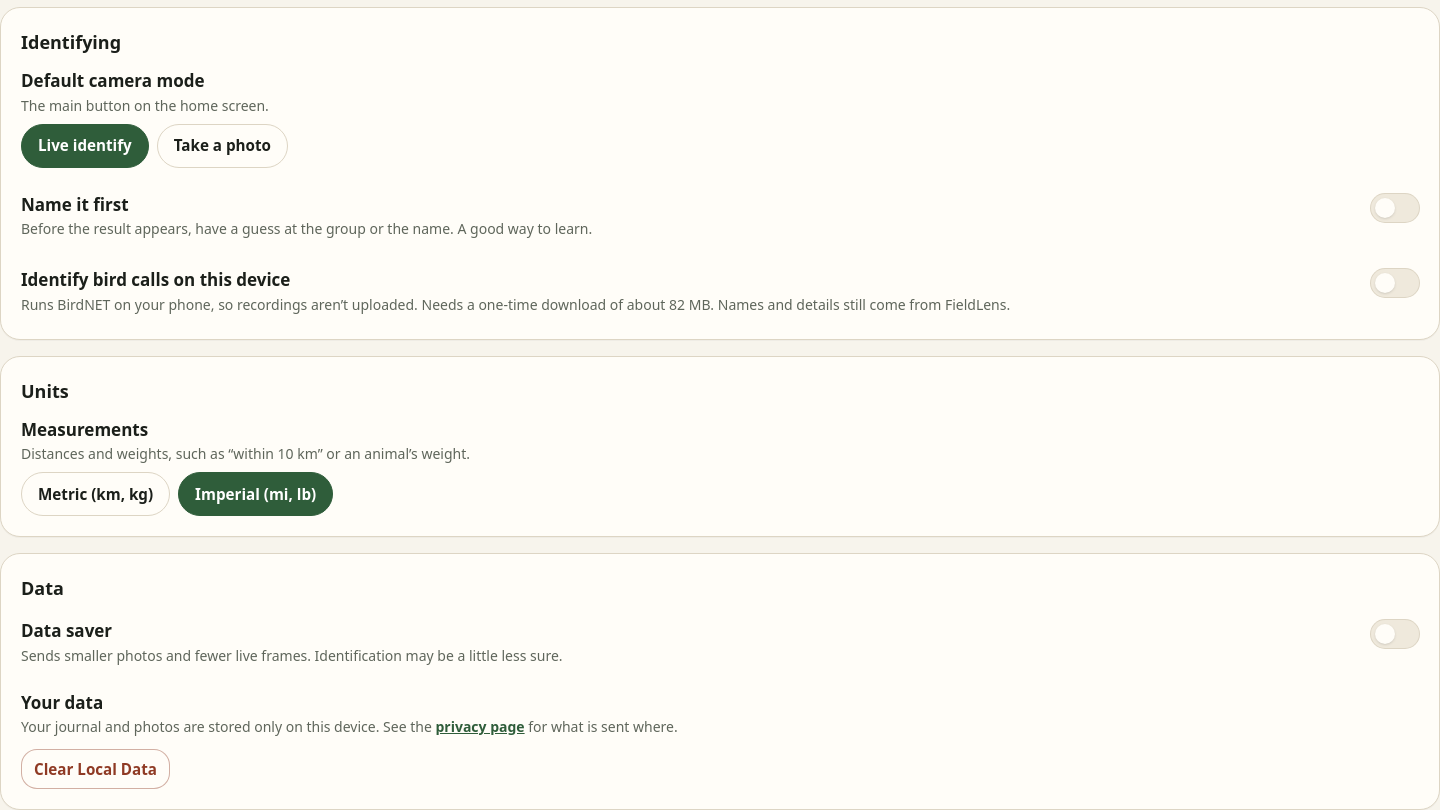
it: SettingsScreen › asks before clearing local data
(page scrolled)
Click the button with test id "clear-data". click: (96, 769)
box: [21, 749, 170, 789]
(page scrolled)
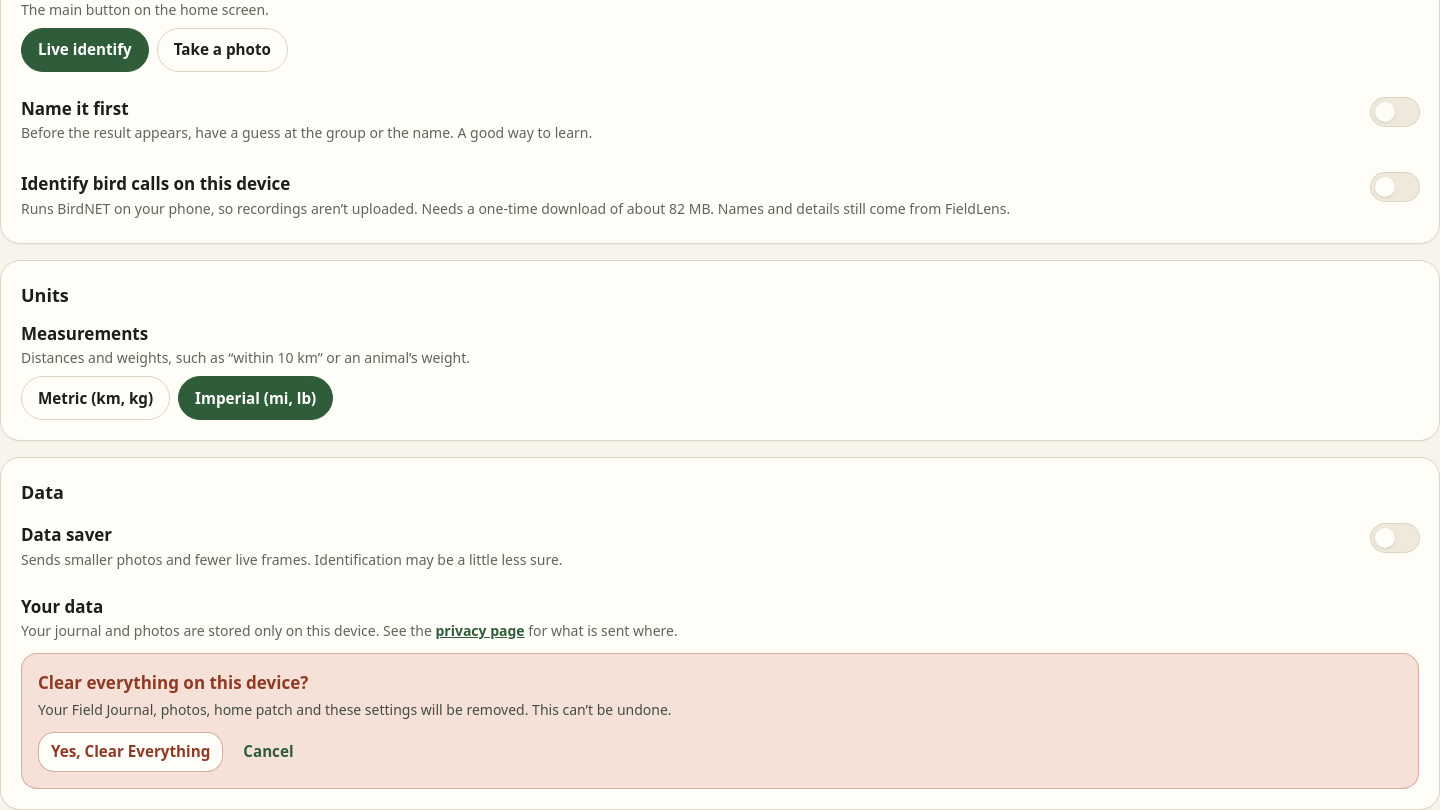
Click the button "Cancel". click: (268, 752)
box: [231, 732, 306, 772]
(page scrolled)
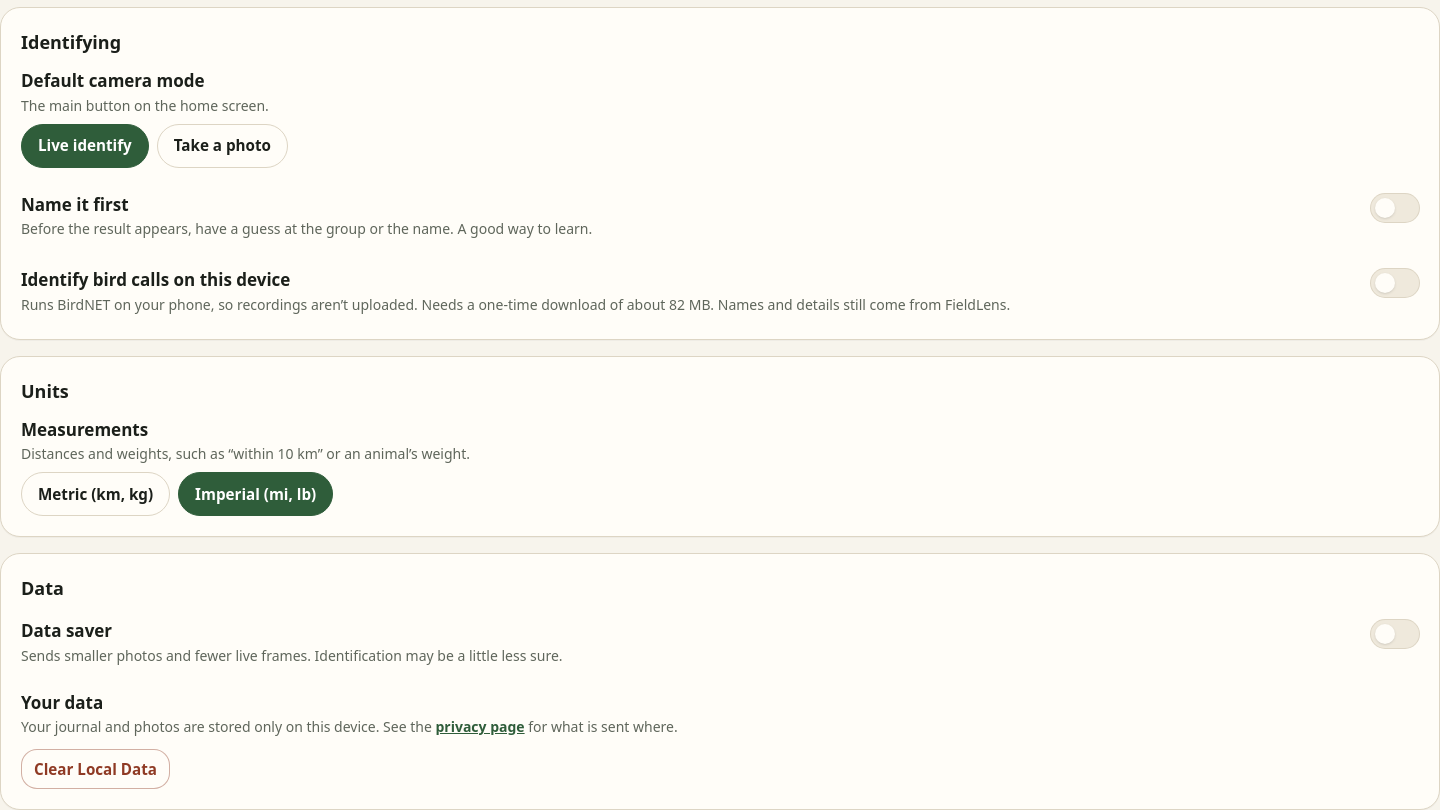
Click the button with test id "clear-data". click: (96, 769)
box: [21, 749, 170, 789]
(page scrolled)
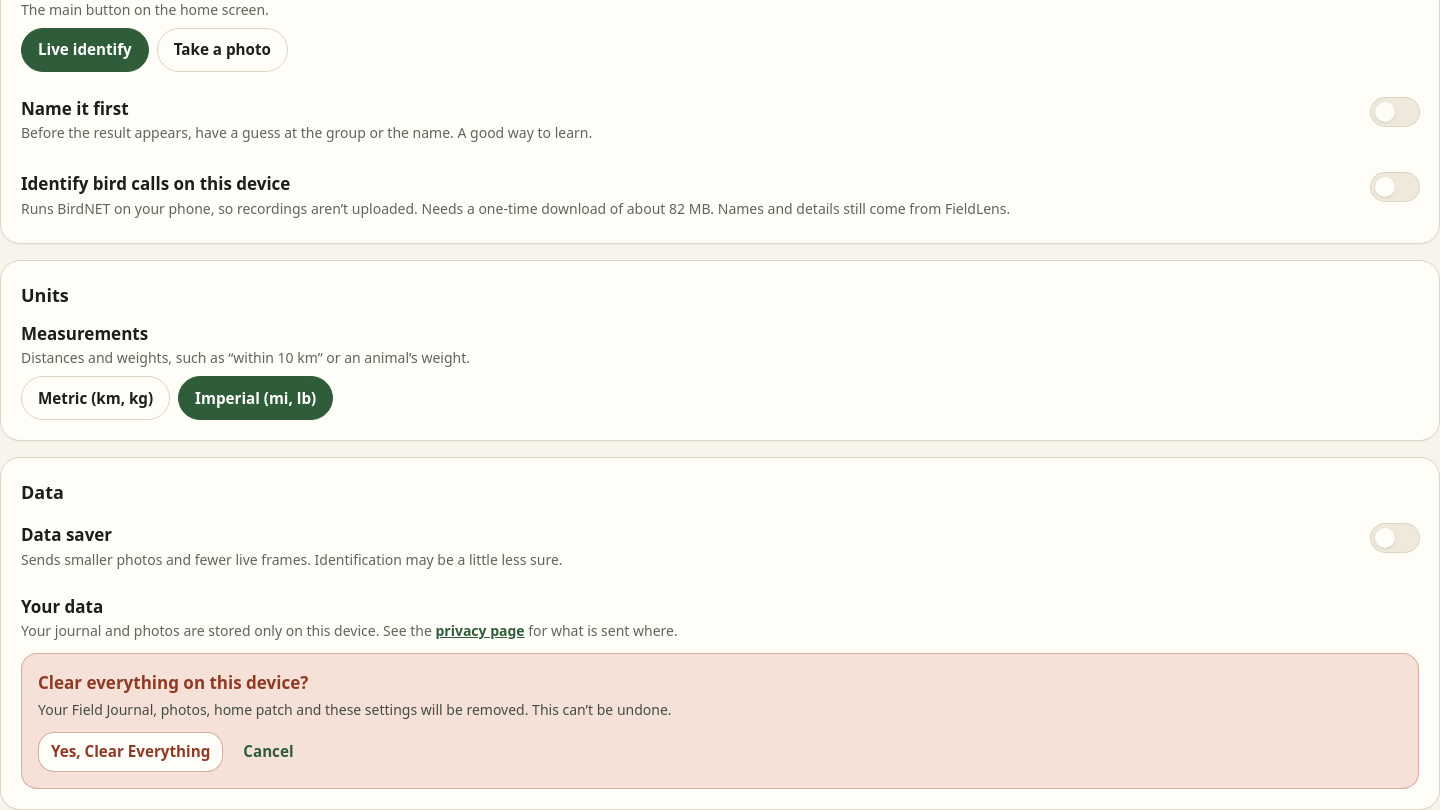
Click the button with test id "clear-data-confirm". click: (131, 752)
box: [38, 732, 223, 772]
(page scrolled)
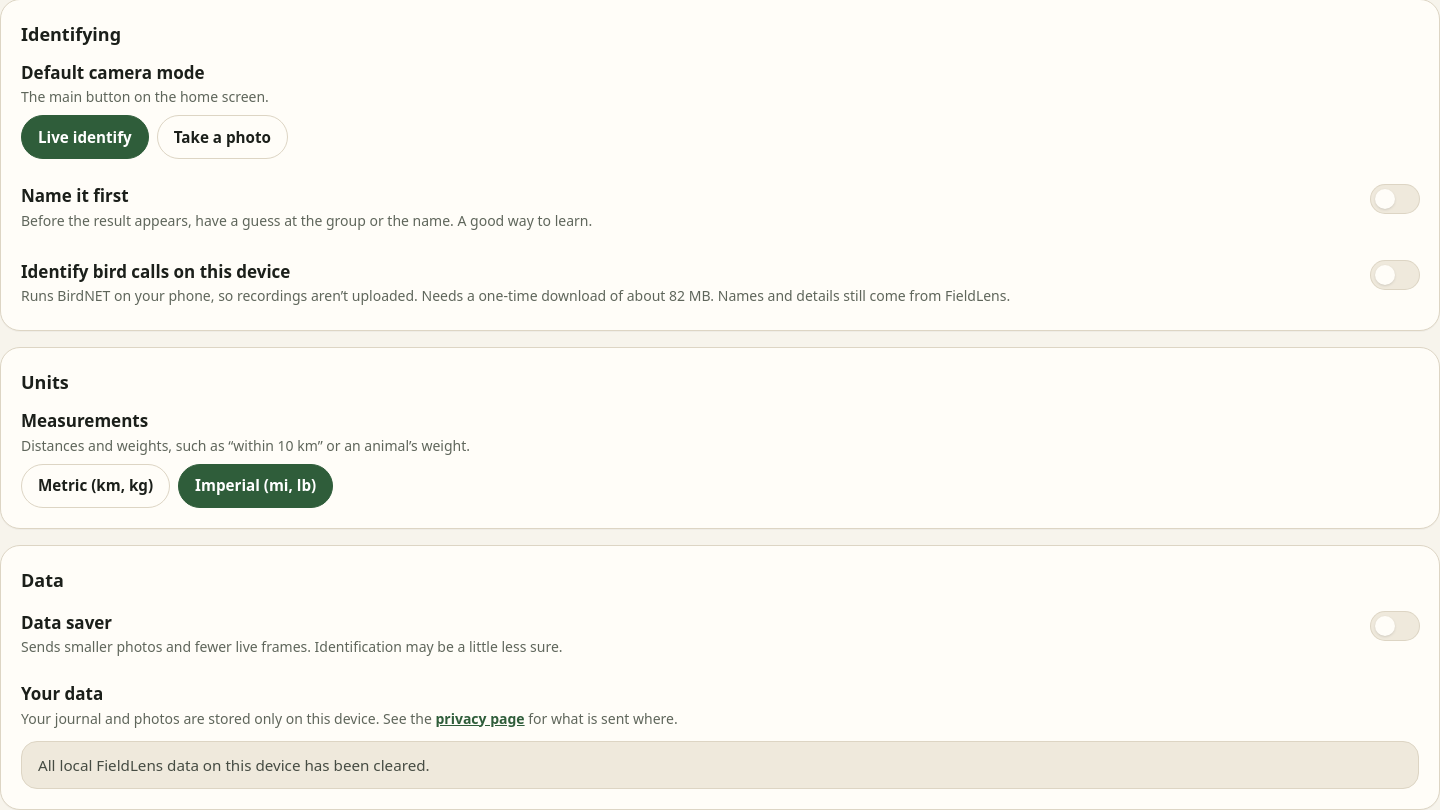
Expected: the text "All local FieldLens data on this device has been cleared." is shown, [21, 740, 1419, 789]
